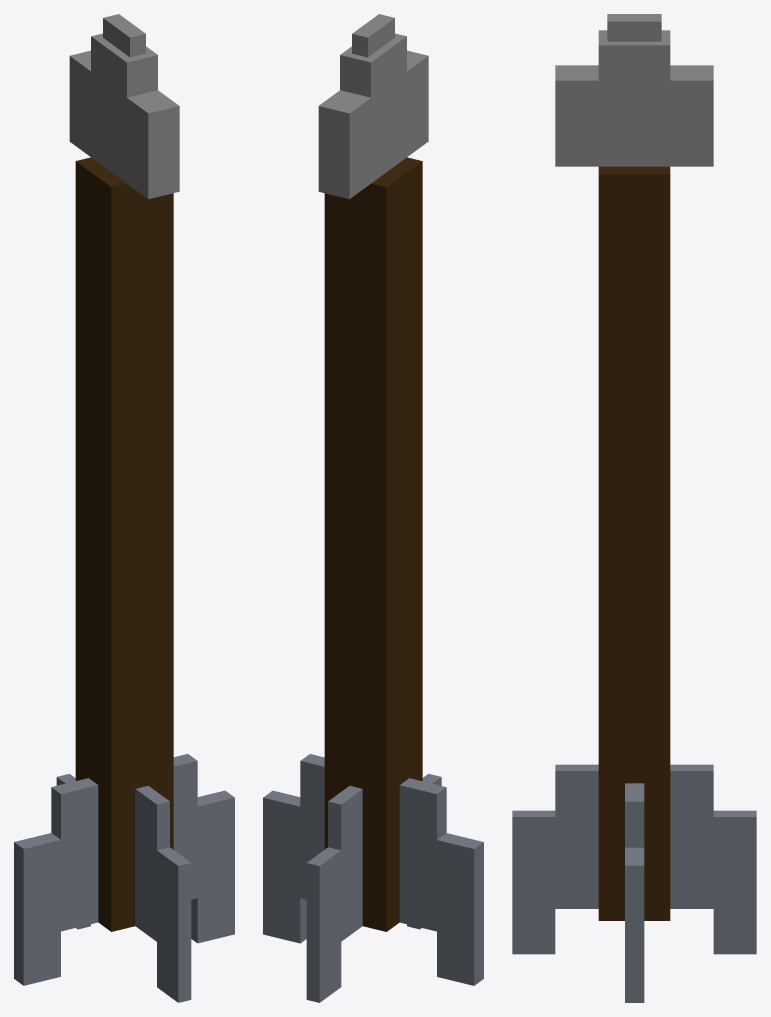
The model's file is Arrow 1.fbx.
3 views of the same model, side by side, from view 1: azimuth 30°, elevation 25°; view 2: azimuth 150°, elevation 25°; view 3: azimuth 270°, elevation 25° (orthographic).
Visible parts, largest first — view 1: Cube; view 2: Cube; view 3: Cube.
Part boxes in pixels (left/top/right/bottom): Cube: left=14, top=14, right=234, bottom=1002; Cube: left=263, top=14, right=483, bottom=1002; Cube: left=512, top=14, right=756, bottom=1002.
Size of the model in its own units: 1.7 by 7.16 by 1.7.
